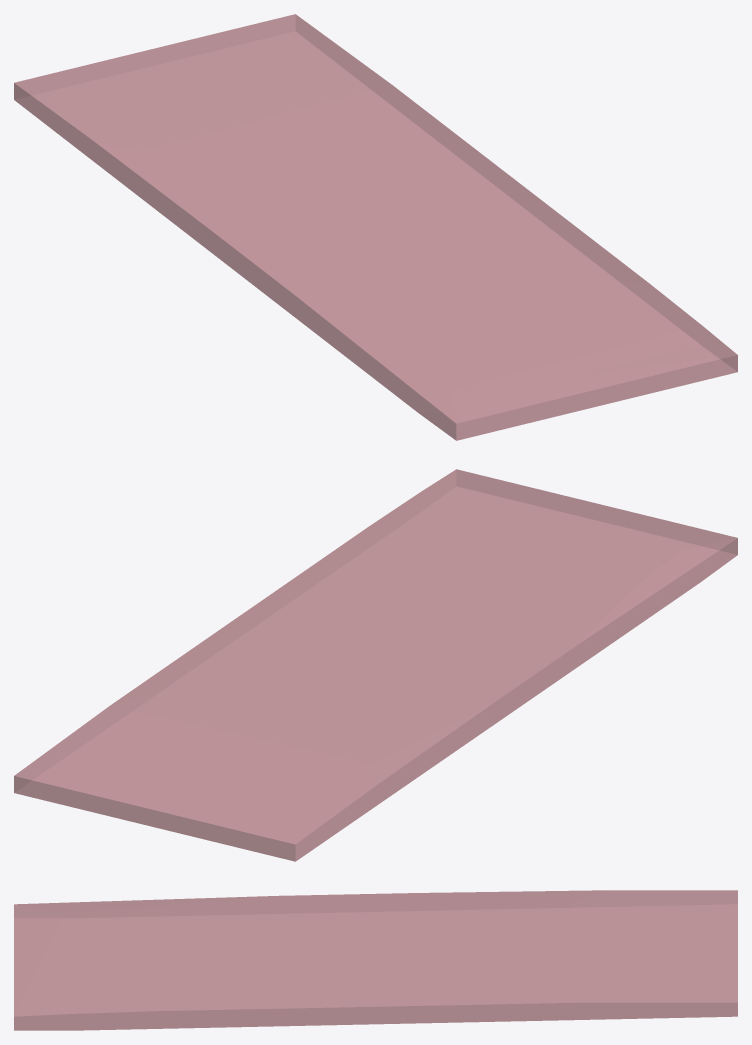
3 views of the same model, one above another, from view 1: azimuth 30°, elevation 25°; view 2: azimuth 150°, elevation 25°; view 3: azimuth 270°, elevation 25° (orthographic). The views are drawn at different scales.
Visible parts, largest first — view 1: Shape_IndexedFaceSet.004_Shape_IndexedFaceSet.9015; view 2: Shape_IndexedFaceSet.004_Shape_IndexedFaceSet.9015; view 3: Shape_IndexedFaceSet.004_Shape_IndexedFaceSet.9015.
Part boxes in pixels (x1,y1,x2,y2): Shape_IndexedFaceSet.004_Shape_IndexedFaceSet.9015: (14,14,737,440); Shape_IndexedFaceSet.004_Shape_IndexedFaceSet.9015: (14,469,737,861); Shape_IndexedFaceSet.004_Shape_IndexedFaceSet.9015: (14,890,737,1030).
Bounding box in the file's own units: 0.2001 × 0.0233 × 0.5446.
